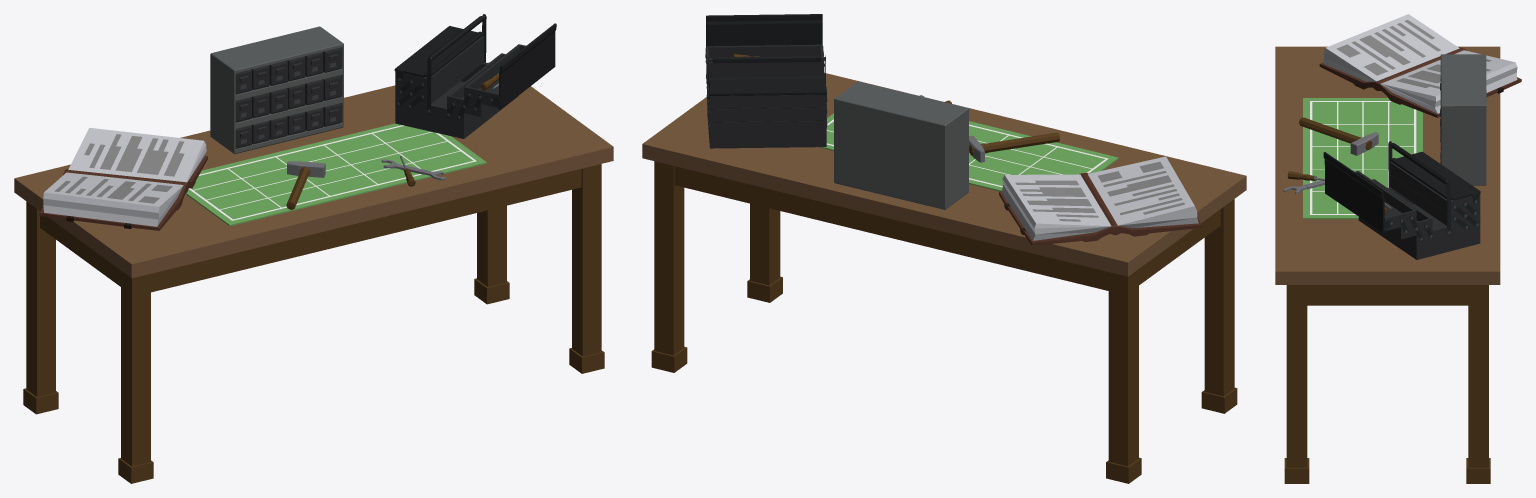
File: crafting_workbench.glb
3 views of the same model, side by side, from view 1: azimuth 30°, elevation 25°; view 2: azimuth 150°, elevation 25°; view 3: azimuth 270°, elevation 25° (orthographic). The views are drawn at different scales.
Parts seen in each view (by area): view 1: SM_TextileCrafting_Prop_Table_012, SM_TextileCrafting_Prop_CuttingMat_012, SM_ElectronicsCrafting_Prop_ComponentDrawer_012, SM_Research_Prop_Book_Open_042, SM_ElectronicsCrafting_Prop_Toolbox_Open_012, SM_StoneCutting_Prop_Hammer_012; view 2: SM_TextileCrafting_Prop_Table_012, SM_ElectronicsCrafting_Prop_Toolbox_Open_012, SM_ElectronicsCrafting_Prop_ComponentDrawer_012, SM_Research_Prop_Book_Open_042, SM_TextileCrafting_Prop_CuttingMat_012, SM_StoneCutting_Prop_Hammer_012; view 3: SM_TextileCrafting_Prop_Table_012, SM_ElectronicsCrafting_Prop_Toolbox_Open_012, SM_Research_Prop_Book_Open_042, SM_TextileCrafting_Prop_CuttingMat_012, SM_ElectronicsCrafting_Prop_ComponentDrawer_012, SM_StoneCutting_Prop_Hammer_012.
Boxes of the visible parts, x1=… form: SM_TextileCrafting_Prop_Table_012: x1=14, y1=62, x2=613, y2=483; SM_TextileCrafting_Prop_CuttingMat_012: x1=185, y1=123, x2=486, y2=226; SM_ElectronicsCrafting_Prop_ComponentDrawer_012: x1=210, y1=26, x2=343, y2=154; SM_Research_Prop_Book_Open_042: x1=39, y1=127, x2=207, y2=230; SM_ElectronicsCrafting_Prop_Toolbox_Open_012: x1=394, y1=14, x2=556, y2=138; SM_StoneCutting_Prop_Hammer_012: x1=286, y1=161, x2=325, y2=209; SM_TextileCrafting_Prop_Table_012: x1=642, y1=73, x2=1246, y2=483; SM_ElectronicsCrafting_Prop_Toolbox_Open_012: x1=705, y1=14, x2=827, y2=148; SM_ElectronicsCrafting_Prop_ComponentDrawer_012: x1=834, y1=81, x2=968, y2=209; SM_Research_Prop_Book_Open_042: x1=999, y1=156, x2=1201, y2=245; SM_TextileCrafting_Prop_CuttingMat_012: x1=818, y1=113, x2=1118, y2=191; SM_StoneCutting_Prop_Hammer_012: x1=969, y1=132, x2=1059, y2=162; SM_TextileCrafting_Prop_Table_012: x1=1275, y1=46, x2=1500, y2=483; SM_ElectronicsCrafting_Prop_Toolbox_Open_012: x1=1323, y1=141, x2=1480, y2=259; SM_Research_Prop_Book_Open_042: x1=1319, y1=14, x2=1521, y2=117; SM_TextileCrafting_Prop_CuttingMat_012: x1=1303, y1=98, x2=1422, y2=219; SM_ElectronicsCrafting_Prop_ComponentDrawer_012: x1=1440, y1=54, x2=1486, y2=185; SM_StoneCutting_Prop_Hammer_012: x1=1299, y1=117, x2=1378, y2=155.
Bounding box in the file's own units: 2.83 × 1.65 × 1.25.
8 materials, 8 textured.
